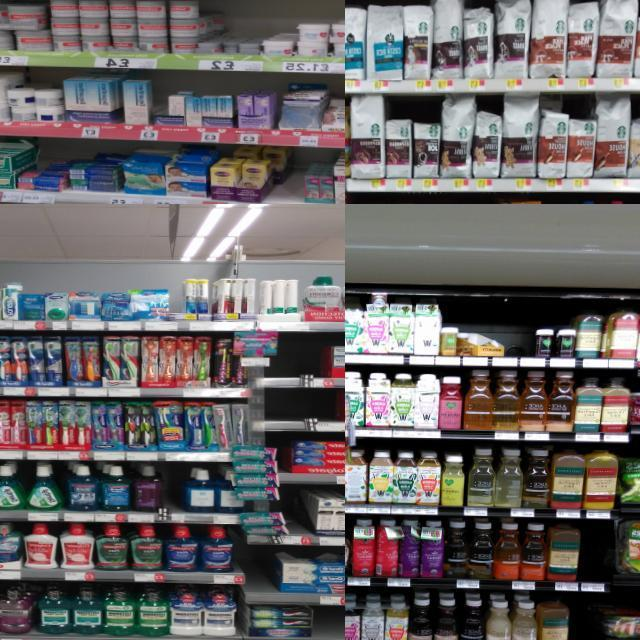empty: (266, 389, 334, 432), (280, 334, 318, 386), (580, 526, 602, 591), (312, 605, 345, 640), (510, 318, 534, 366), (246, 550, 268, 602), (162, 463, 180, 521), (286, 492, 306, 544), (569, 604, 592, 640), (284, 164, 303, 204)
